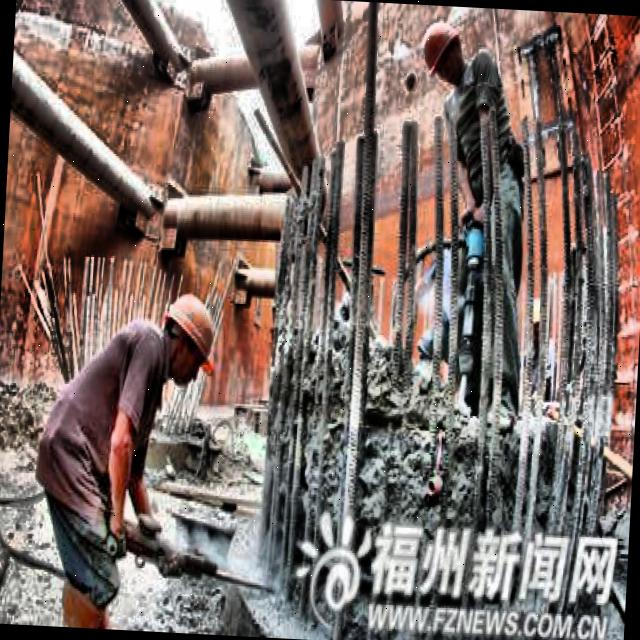helmet: (160, 286, 221, 389), (419, 22, 472, 88)
